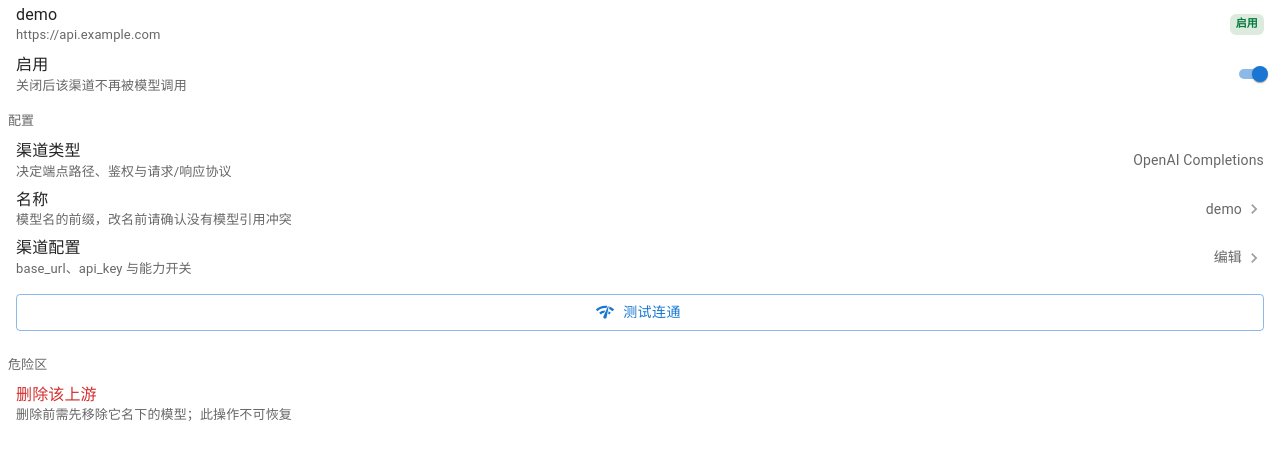
Test: UpstreamDetailPage › 测试连通失败：HTTP 200 + ok:false 时行内展示错误原因
The width and height of the screenshot is (1280, 467).
Check: the text "https://api.example.com" is shown, box [16,27,160,42]
Click the button "测试连通". click: x=640, y=312
box: [16,294,1264,330]
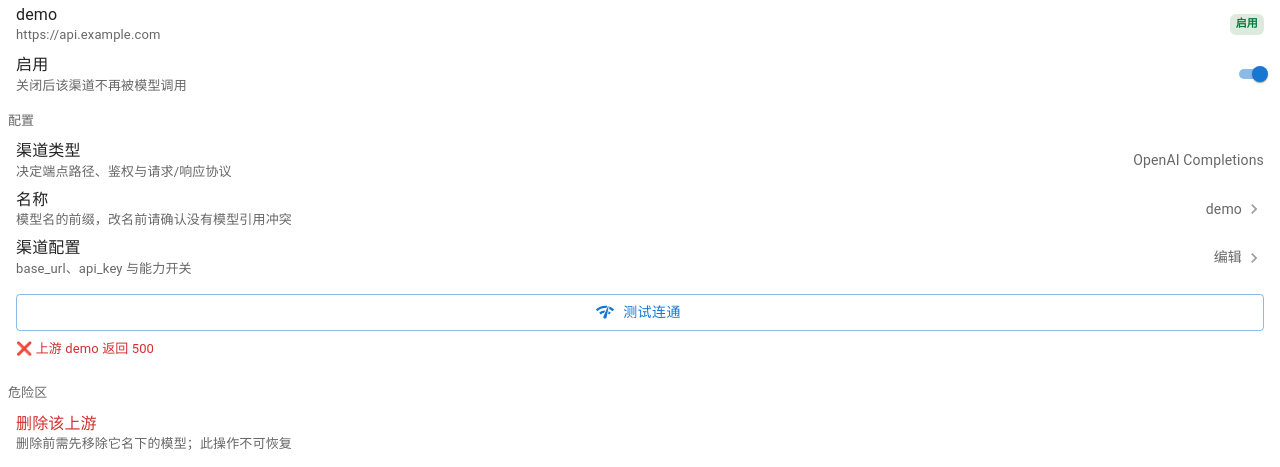
Check: the text "❌ 上游 demo 返回 500" is shown, box [16,340,154,356]
